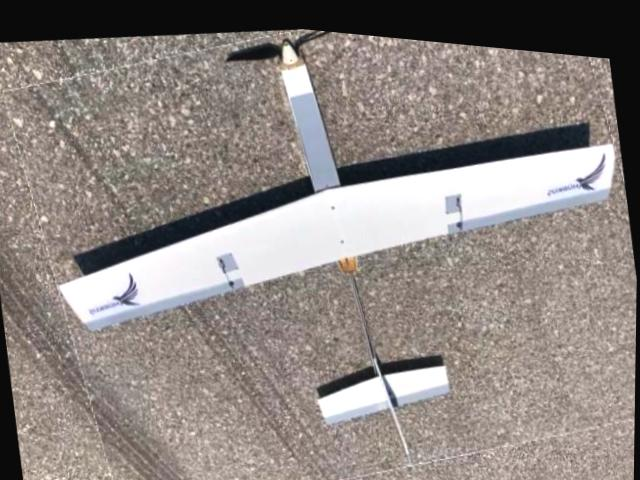insansiz-hava-araci: (6, 1, 640, 480)
